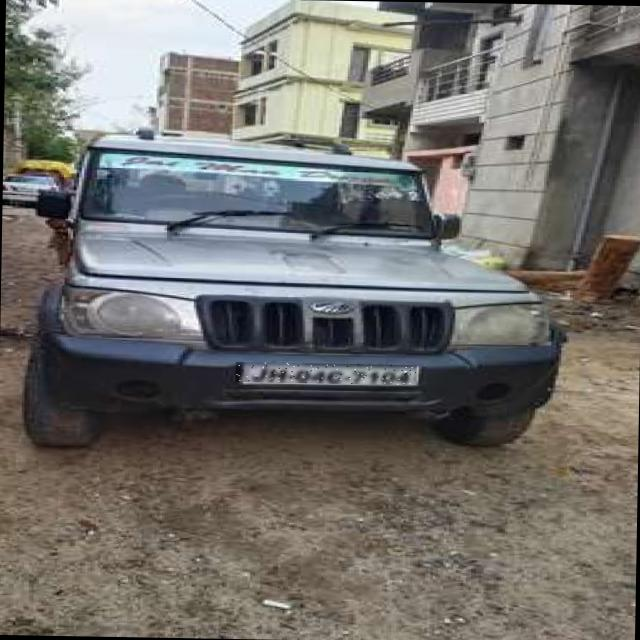Plate: (236, 363, 417, 386)
